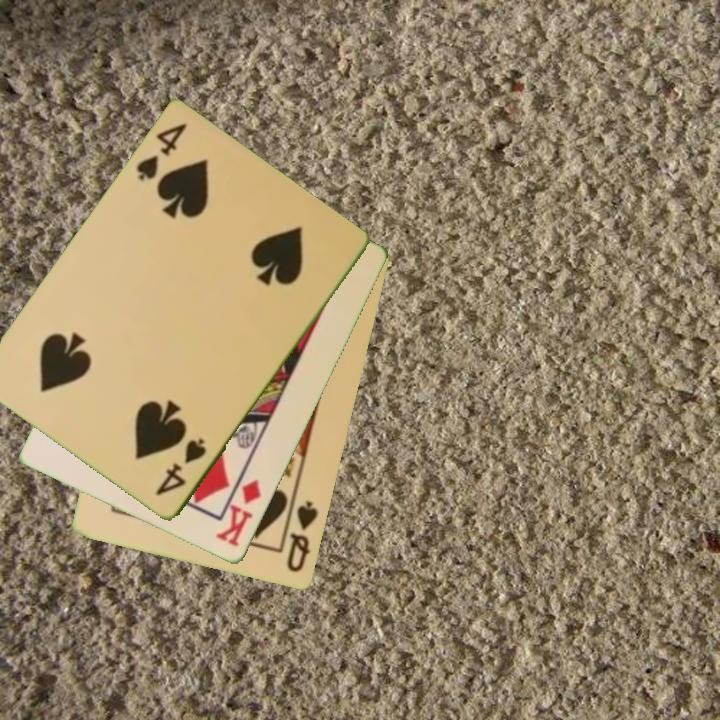4s: (132, 119, 191, 185), (152, 435, 210, 500)
Kd: (212, 476, 264, 550)
Qs: (284, 497, 322, 576)
